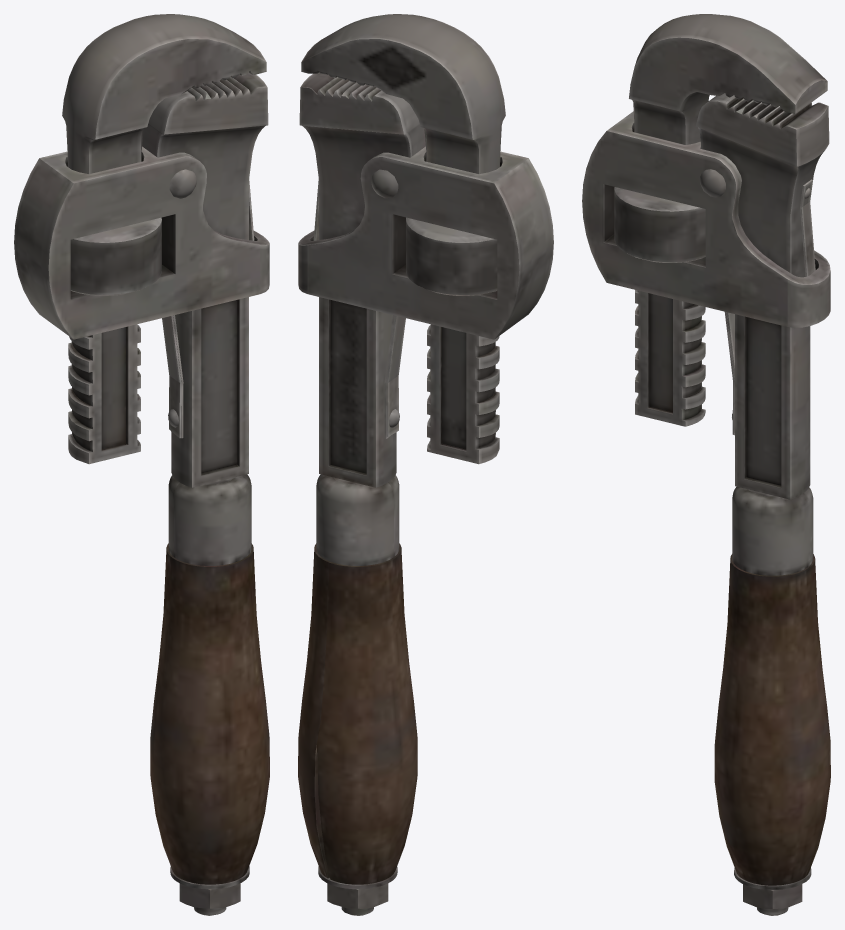
Rendered from adjustable_wrench.glb.
3 renders of one model, left to right at view 1: azimuth 30°, elevation 25°; view 2: azimuth 150°, elevation 25°; view 3: azimuth 330°, elevation 25°, orthographic. The views are drawn at different scales.
Visible parts, largest first — view 1: adjustable_wrench_jaw; view 2: adjustable_wrench_jaw; view 3: adjustable_wrench_jaw.
Boxes of the visible parts, x1=… form: adjustable_wrench_jaw: x1=14, y1=14, x2=269, y2=915; adjustable_wrench_jaw: x1=298, y1=14, x2=553, y2=915; adjustable_wrench_jaw: x1=582, y1=14, x2=830, y2=915.
Size of the model in its own units: 0.0684 by 0.2541 by 0.0306.
Materials: 1 (1 with a texture image).
